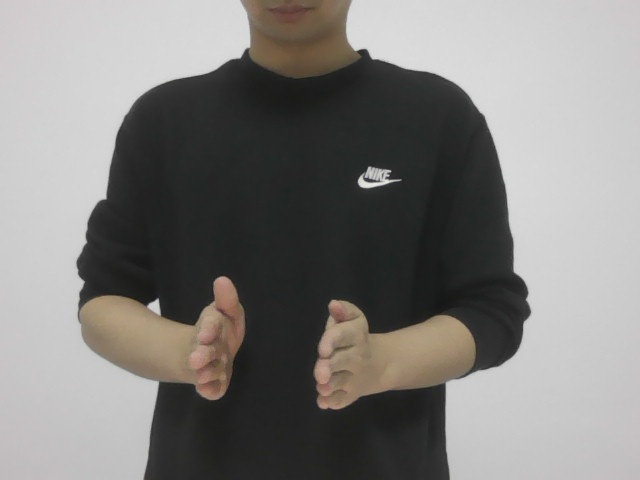road: (177, 273, 391, 418)
